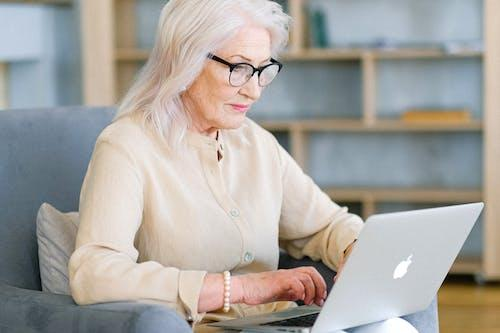eyeglasses: (212, 52, 295, 90)
